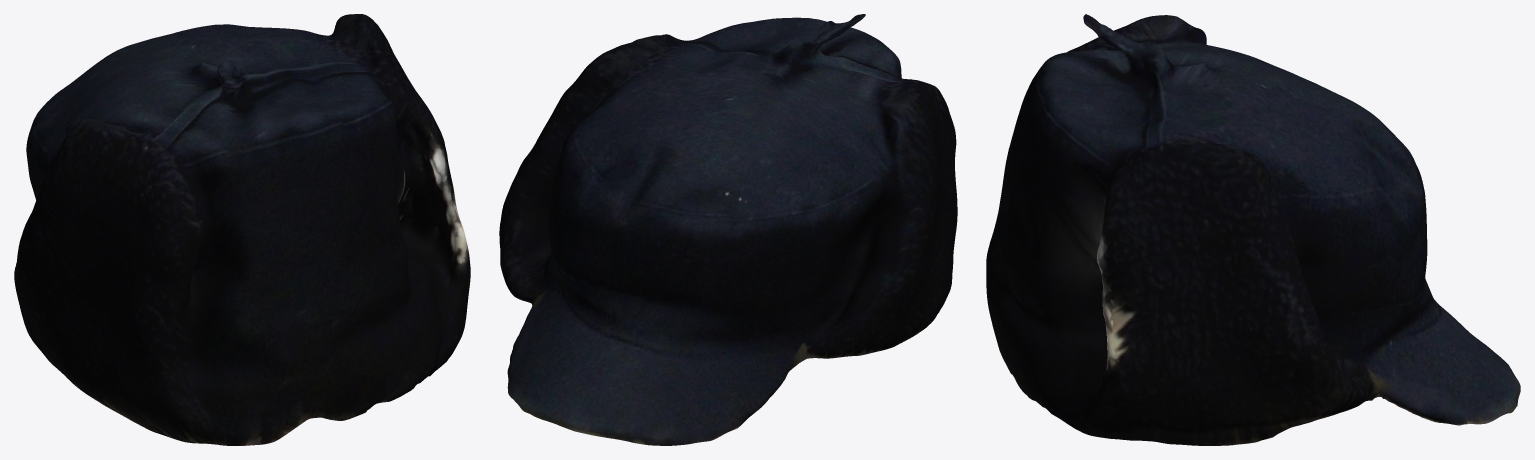
The model's file is ushankaHat.gltf.
The picture shows the model from 3 angles, left to right: view 1: azimuth 30°, elevation 25°; view 2: azimuth 150°, elevation 25°; view 3: azimuth 270°, elevation 25°; orthographic projection. The views are drawn at different scales.
Visible parts, largest first — view 1: ushankaHat; view 2: ushankaHat; view 3: ushankaHat.
Part boxes in pixels (x1=…): ushankaHat: x1=14, y1=14, x2=470, y2=445; ushankaHat: x1=499, y1=14, x2=957, y2=445; ushankaHat: x1=986, y1=14, x2=1520, y2=445.
Size of the model in its own units: 2.01 by 1.55 by 2.24.
1 material, 1 textured.
